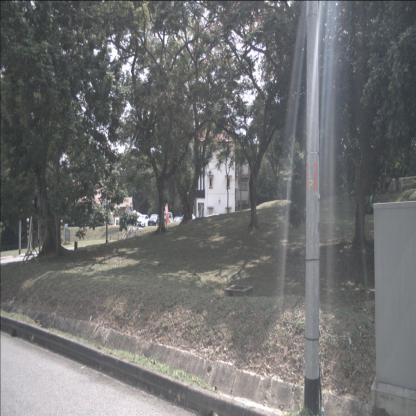vehicle-car: (160, 211, 174, 226), (136, 214, 150, 228), (148, 214, 161, 227), (173, 216, 182, 226)
